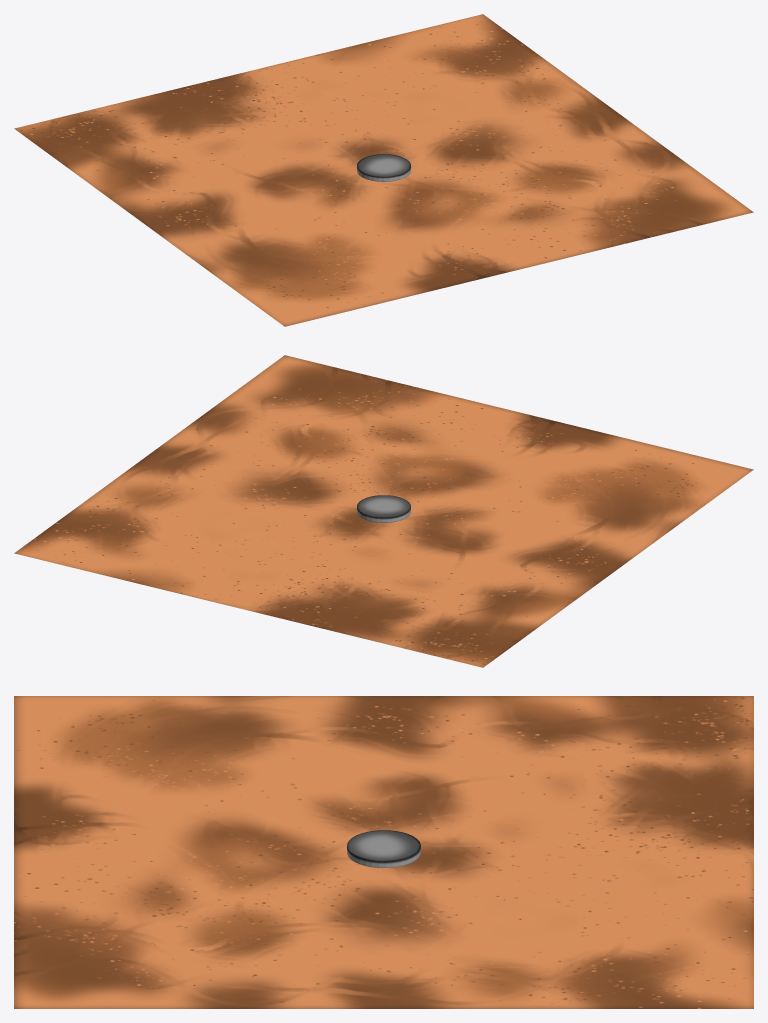
File: Me_Floor.fbx
The picture shows the model from 3 angles, top to bottom: view 1: azimuth 30°, elevation 25°; view 2: azimuth 150°, elevation 25°; view 3: azimuth 270°, elevation 25°; orthographic projection. The views are drawn at different scales.
Visible parts, largest first — view 1: floor; view 2: floor; view 3: floor.
Part boxes in pixels (x1,y1,x2,y2): floor: [14, 14, 753, 326]; floor: [14, 355, 753, 667]; floor: [14, 696, 753, 1008].
Bounding box in the file's own units: 2000 × 26.91 × 2000.
